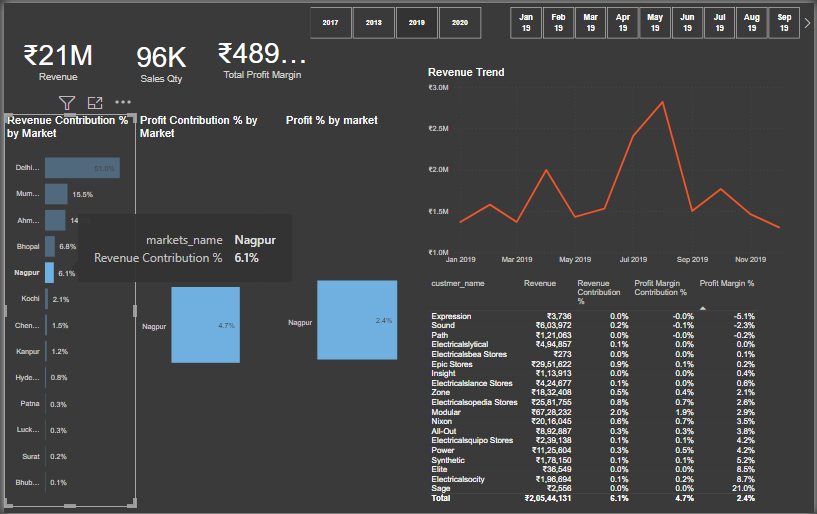

What the dashboard file says about the page in this screenshot:
{"tool":"powerbi","page":{"name":"Profit Analysis","canvas":[1350,850],"ordinal":1},"visuals":[{"type":"card","fields":{"Values":["BaseMeasures (2).Revenue"]},"box":[0,0,179.6,184.8],"z":0},{"type":"card","fields":{"Values":["BaseMeasures (2).Sales Qty"]},"box":[179.6,0,164.1,193],"z":1000},{"type":"barChart","title":"Profit % by market","fields":{"Y":["BaseMeasures (2).Profit Margin %"],"Category":["sales markets.markets_name"]},"box":[464.5,184.8,230.2,664.8],"z":2000},{"type":"barChart","title":"Profit Contribution % by Market","fields":{"Y":["BaseMeasures (2).Profit Margin Contribution %"],"Category":["sales markets.markets_name"]},"box":[221.9,185.8,208.5,659.6],"z":3000},{"type":"slicer","fields":{"Values":["sales date.year"]},"box":[483.2,0,335.5,66.5],"z":4000},{"type":"slicer","fields":{"Values":["sales date.cy_date"]},"box":[818.6,0,531.7,66.5],"z":5000},{"type":"tableEx","title":"Top 5 Customers","fields":{"Values":["sales customers.custmer_name","BaseMeasures (2).Revenue","BaseMeasures (2).Revenue Contribution %","BaseMeasures (2).Profit Margin Contribution %","BaseMeasures (2).Profit Margin %"]},"box":[701.9,454.2,648.3,395.4],"z":6000},{"type":"lineChart","title":"Revenue Trend","fields":{"Y":["BaseMeasures (2).Revenue"],"Category":["sales date.cy_date"]},"box":[701.9,104.3,621.4,338.6],"z":7000},{"type":"card","fields":{"Values":["BaseMeasures (2).Total Profit Margin"]},"box":[349.9,0,161,176.5],"z":8000},{"type":"barChart","title":"Revenue Contribution % by Market","fields":{"Y":["BaseMeasures (2).Revenue Contribution %"],"Category":["sales markets.markets_name"]},"box":[0,185.8,219.9,654.5],"z":9000}]}

Visuals, with their boxes in screenshot pixels (x1, y1, x2, y2), scaled from the page's 1350x850 canvas onto the 817x514 screenshot:
card - BaseMeasures (2).Revenue: 0, 0, 109, 112
card - BaseMeasures (2).Sales Qty: 109, 0, 208, 117
"Profit % by market" barChart: 281, 112, 420, 513
"Profit Contribution % by Market" barChart: 134, 112, 260, 511
slicer - sales date.year: 292, 0, 495, 40
slicer - sales date.cy_date: 495, 0, 816, 40
"Top 5 Customers" tableEx: 425, 275, 816, 513
"Revenue Trend" lineChart: 425, 63, 801, 268
card - BaseMeasures (2).Total Profit Margin: 212, 0, 309, 107
"Revenue Contribution % by Market" barChart: 0, 112, 133, 508
